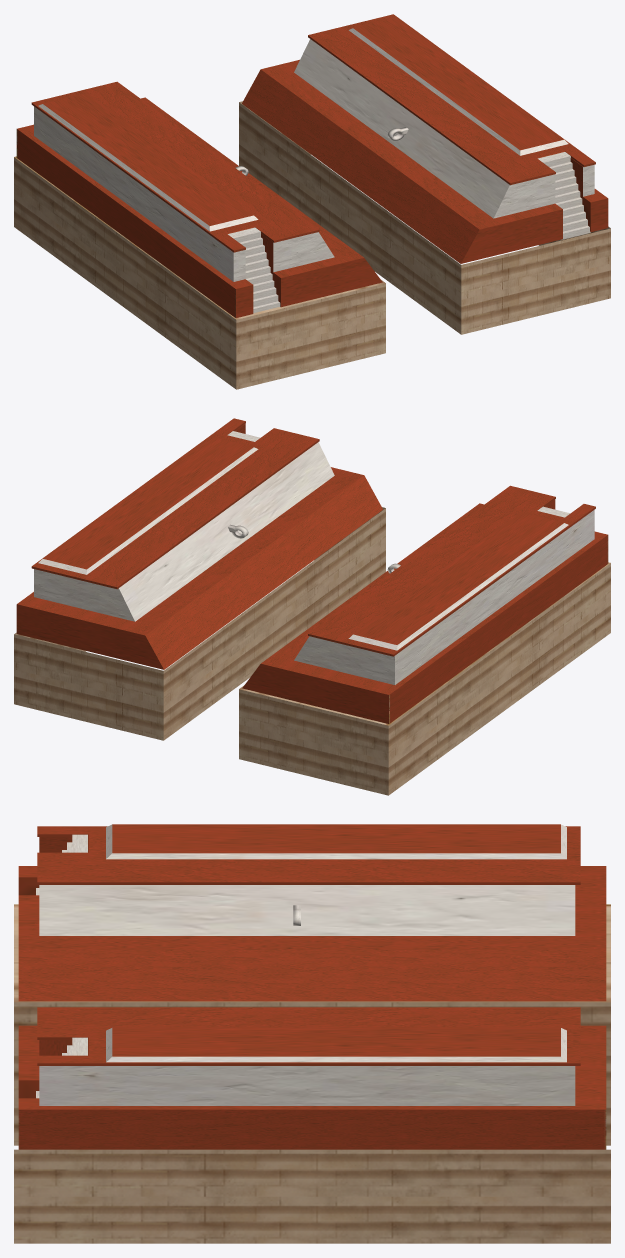
File: ball.dae
3 renders of one model, top to bottom at view 1: azimuth 30°, elevation 25°; view 2: azimuth 150°, elevation 25°; view 3: azimuth 270°, elevation 25°, orthographic. The views are drawn at different scales.
Visible parts, largest first — view 1: Cubo_001_001.002; view 2: Cubo_001_001.002; view 3: Cubo_001_001.002.
Part boxes in pixels (x1,y1,x2,y2): Cubo_001_001.002: (14,14,610,389); Cubo_001_001.002: (14,418,610,795); Cubo_001_001.002: (14,824,610,1243).
Bounding box in the file's own units: 31.21 × 32.09 × 10.7.
